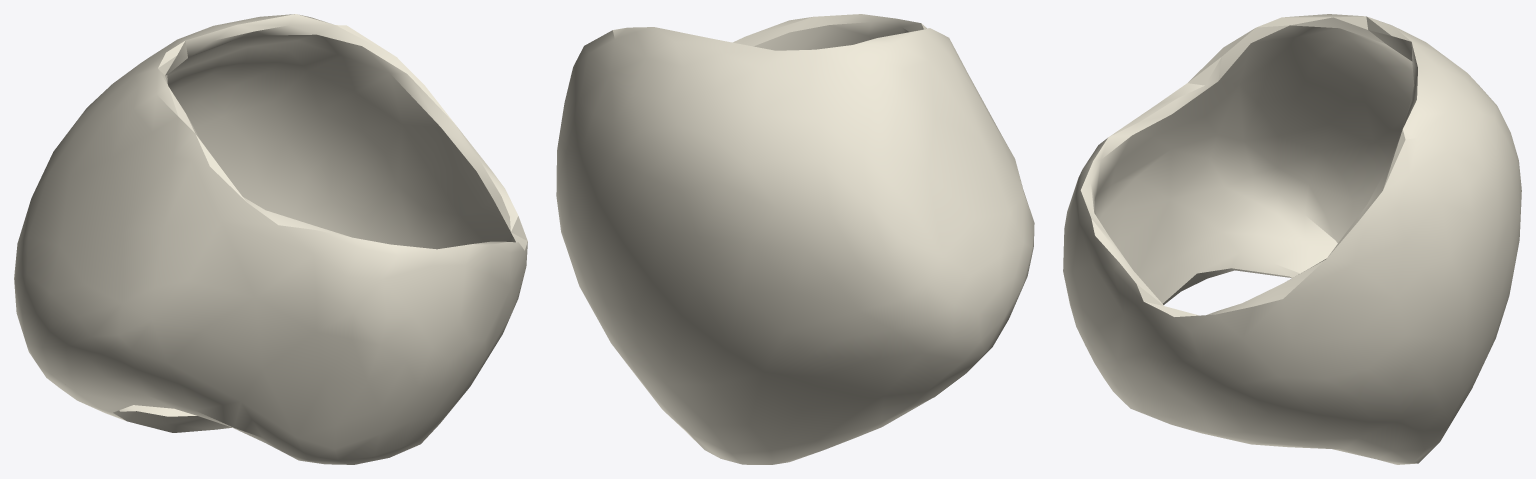
File: fma57051_mm1108m.glb
The picture shows the model from 3 angles, left to right: view 1: azimuth 30°, elevation 25°; view 2: azimuth 150°, elevation 25°; view 3: azimuth 270°, elevation 25°; orthographic projection. The views are drawn at different scales.
Parts seen in each view (by area): view 1: FMA57051_MM1108M; view 2: FMA57051_MM1108M; view 3: FMA57051_MM1108M.
Boxes of the visible parts, bbox=[...] form: FMA57051_MM1108M: bbox=[14, 14, 527, 464]; FMA57051_MM1108M: bbox=[556, 14, 1034, 464]; FMA57051_MM1108M: bbox=[1063, 14, 1521, 464].
Bounding box in the file's own units: 0.016 × 0.0145 × 0.0152.
